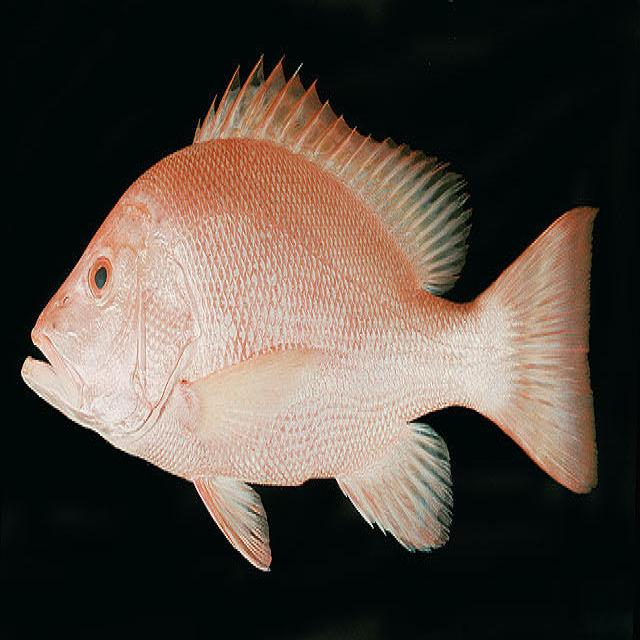ikan: (20, 50, 600, 573)
